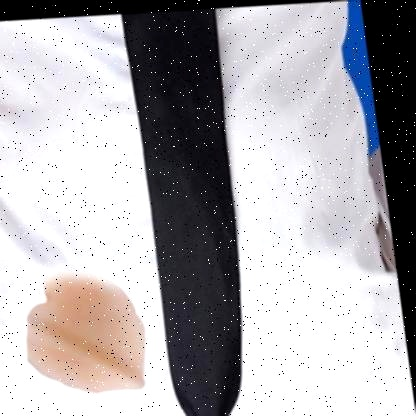coffee: (26, 275, 146, 392)
